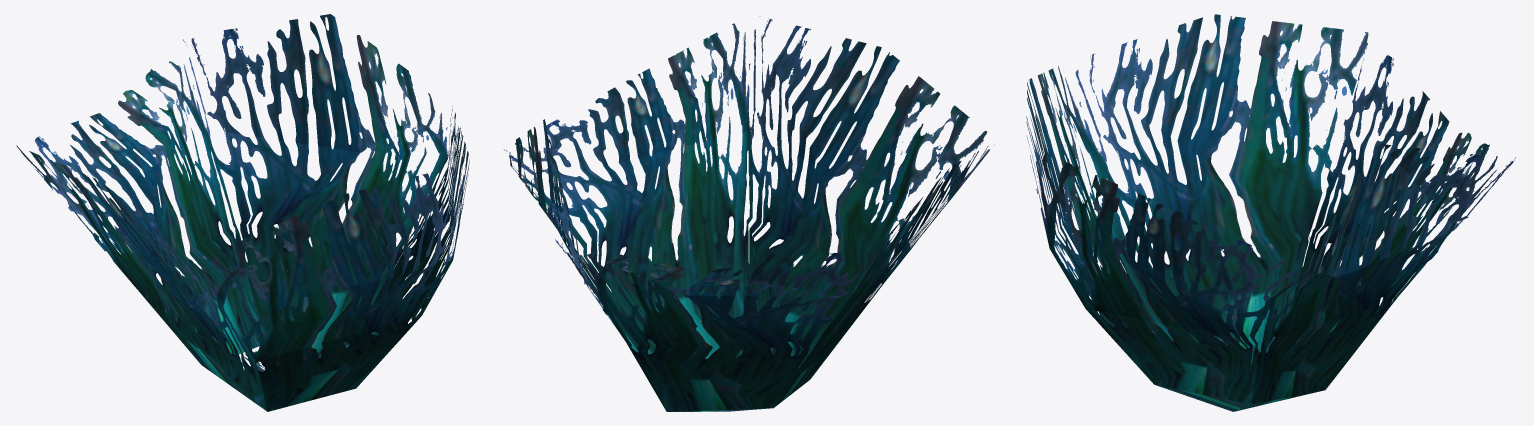
File: H1_BluePlant_Corona1_2.gltf
The picture shows the model from 3 angles, left to right: view 1: azimuth 30°, elevation 25°; view 2: azimuth 150°, elevation 25°; view 3: azimuth 270°, elevation 25°; orthographic projection. The views are drawn at different scales.
Parts seen in each view (by area): view 1: H1_BluePlant_Corona1_2; view 2: H1_BluePlant_Corona1_2; view 3: H1_BluePlant_Corona1_2.
Part boxes in pixels (left/top/right/bottom): H1_BluePlant_Corona1_2: left=16, top=14, right=469, bottom=411; H1_BluePlant_Corona1_2: left=503, top=16, right=994, bottom=411; H1_BluePlant_Corona1_2: left=1026, top=14, right=1515, bottom=411.
Bounding box in the file's own units: 4.65 × 3.43 × 4.76.
Materials: 1 (1 with a texture image).
